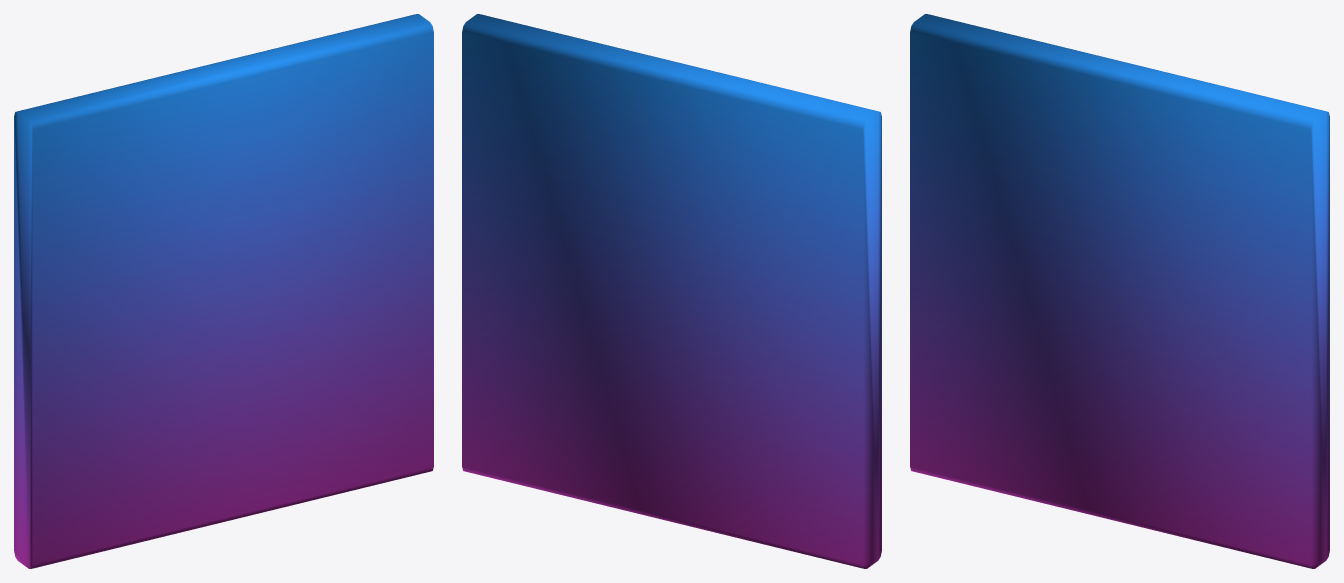
Rendered from obstacle_19_001.fbx.
3 views of the same model, side by side, from view 1: azimuth 30°, elevation 25°; view 2: azimuth 150°, elevation 25°; view 3: azimuth 330°, elevation 25° (orthographic).
Visible parts, largest first — view 1: obstacle_19_001; view 2: obstacle_19_001; view 3: obstacle_19_001.
Part boxes in pixels (<box>): obstacle_19_001: <box>14,14,433,568</box>; obstacle_19_001: <box>462,14,881,568</box>; obstacle_19_001: <box>910,14,1329,568</box>.
Size of the model in its own units: 329 by 26.66 by 352.
